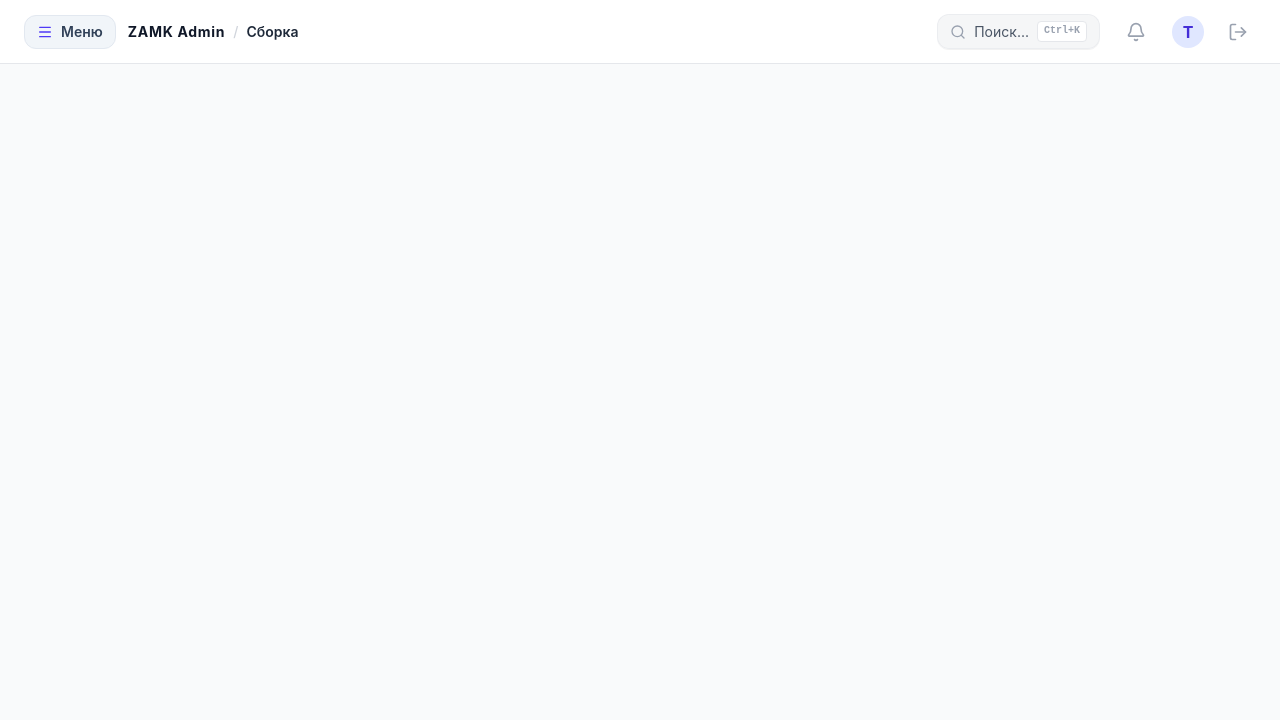
Test: EMP.1C3C2R.2B — Admin Navigation and Route Guards Alignment › C: picking route and navigation visibility strictly require warehouse.picking
This screenshot has width=1280, height=720.
Click the button with test id "admin-nav-trigger": click(70, 32) 24,14 -> 116,48
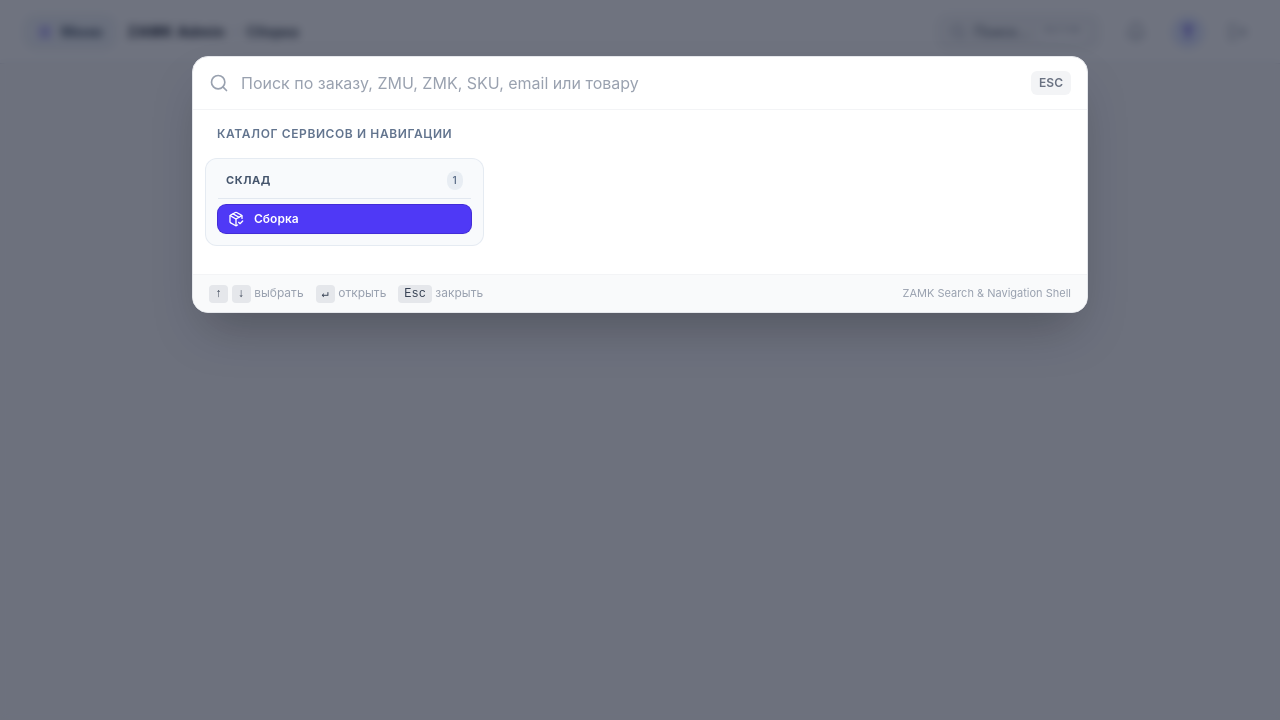
Now the text "Сборка" is shown, box 254,211 -> 299,227
